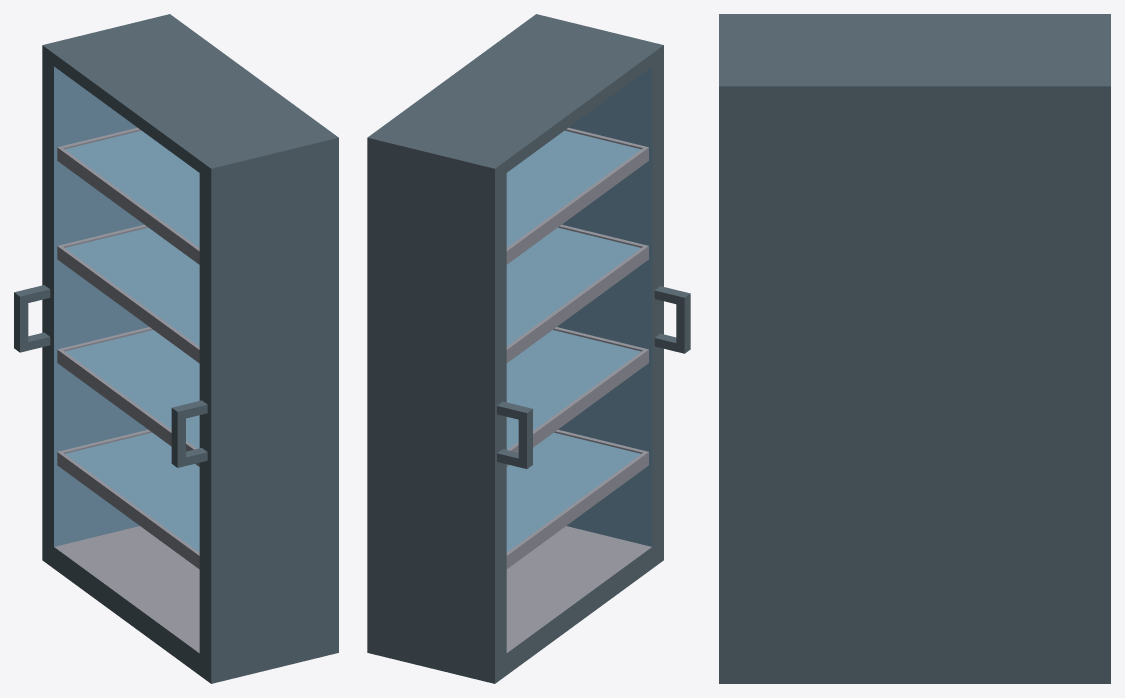
File: Locker_Steel_Open_Body.fbx
3 renders of one model, left to right at view 1: azimuth 30°, elevation 25°; view 2: azimuth 150°, elevation 25°; view 3: azimuth 270°, elevation 25°, orthographic. The views are drawn at different scales.
Parts seen in each view (by area): view 1: Steel_Locker_Body; view 2: Steel_Locker_Body; view 3: Steel_Locker_Body.
Part boxes in pixels (x1,y1,x2,y2): Steel_Locker_Body: [14, 14, 338, 683]; Steel_Locker_Body: [367, 14, 690, 683]; Steel_Locker_Body: [719, 14, 1110, 683].
Bounding box in the file's own units: 69.76 × 218 × 129.
